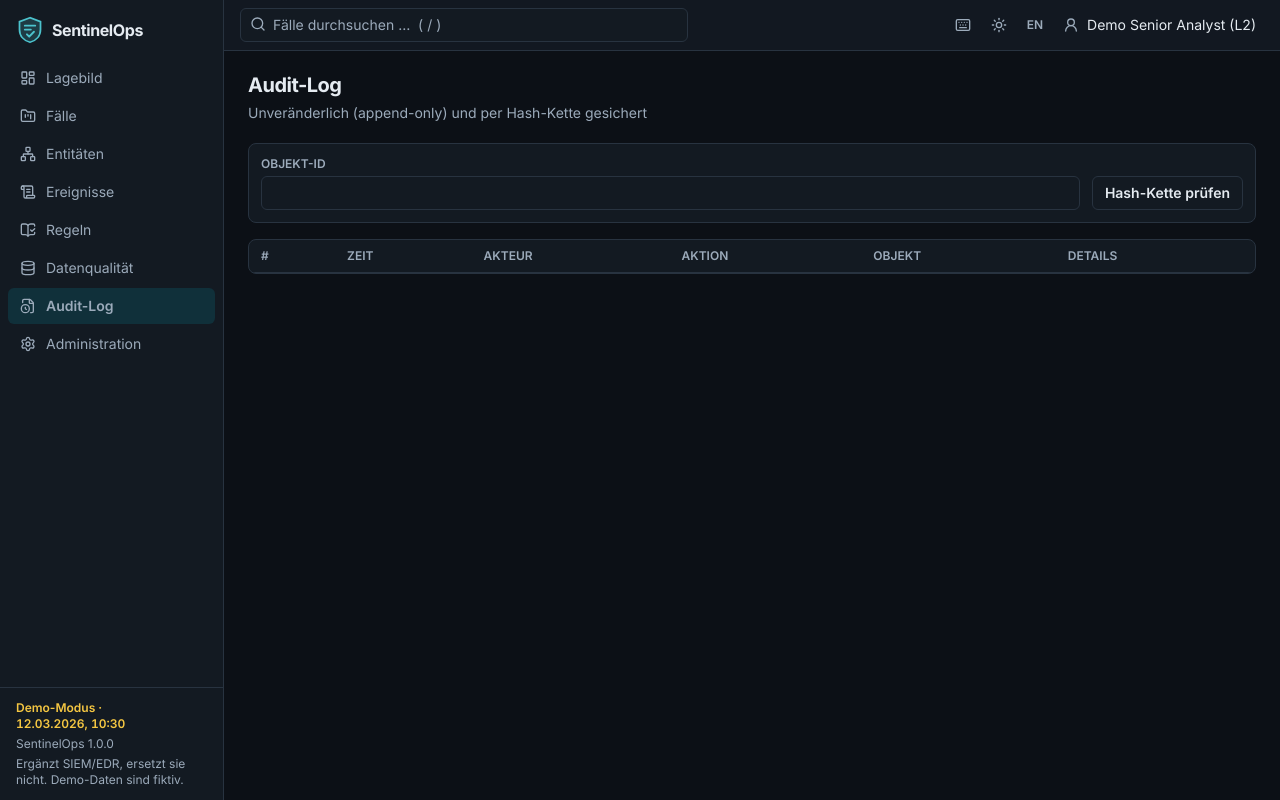
Test: entities, audit and administration › reports a broken hash chain
Click the button "Hash-Kette prüfen": point(1167, 193) top-left (1092, 176), bottom-right (1243, 210)
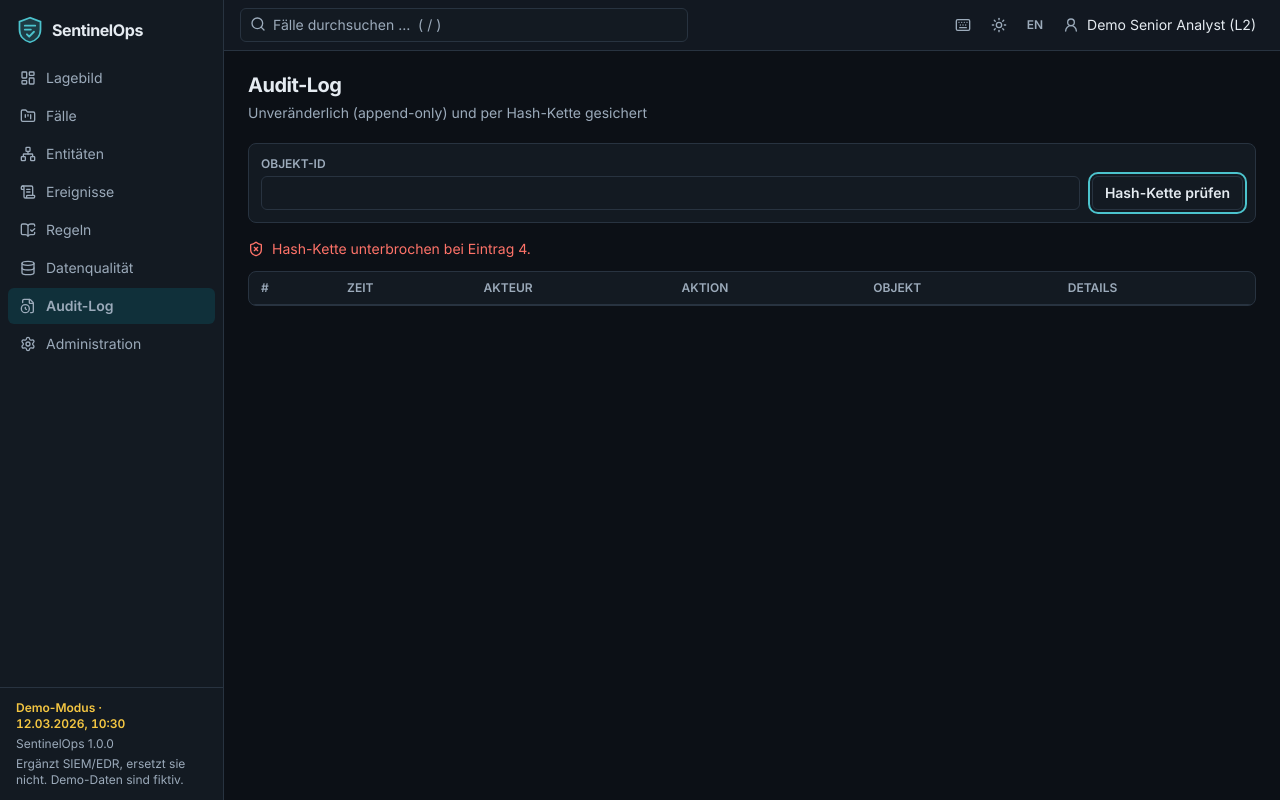
Now the text "Hash-Kette unterbrochen bei Eintrag 4." is shown, box top-left (248, 240), bottom-right (531, 257)
